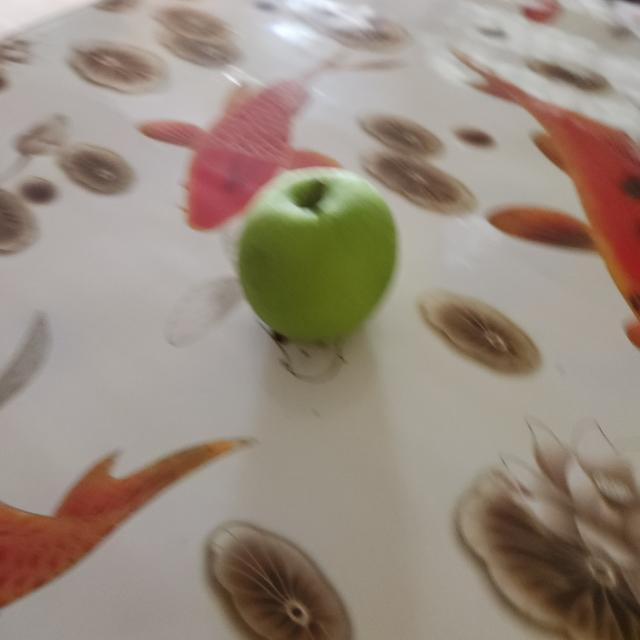apple: (235, 164, 400, 348)
